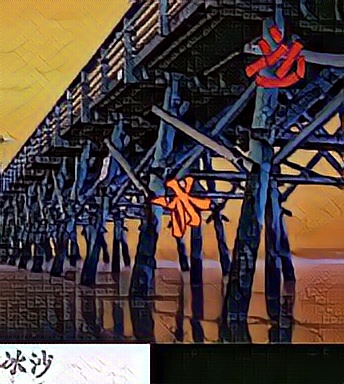B1F9: (152, 174, 214, 238)
C9B3: (245, 29, 307, 93)
